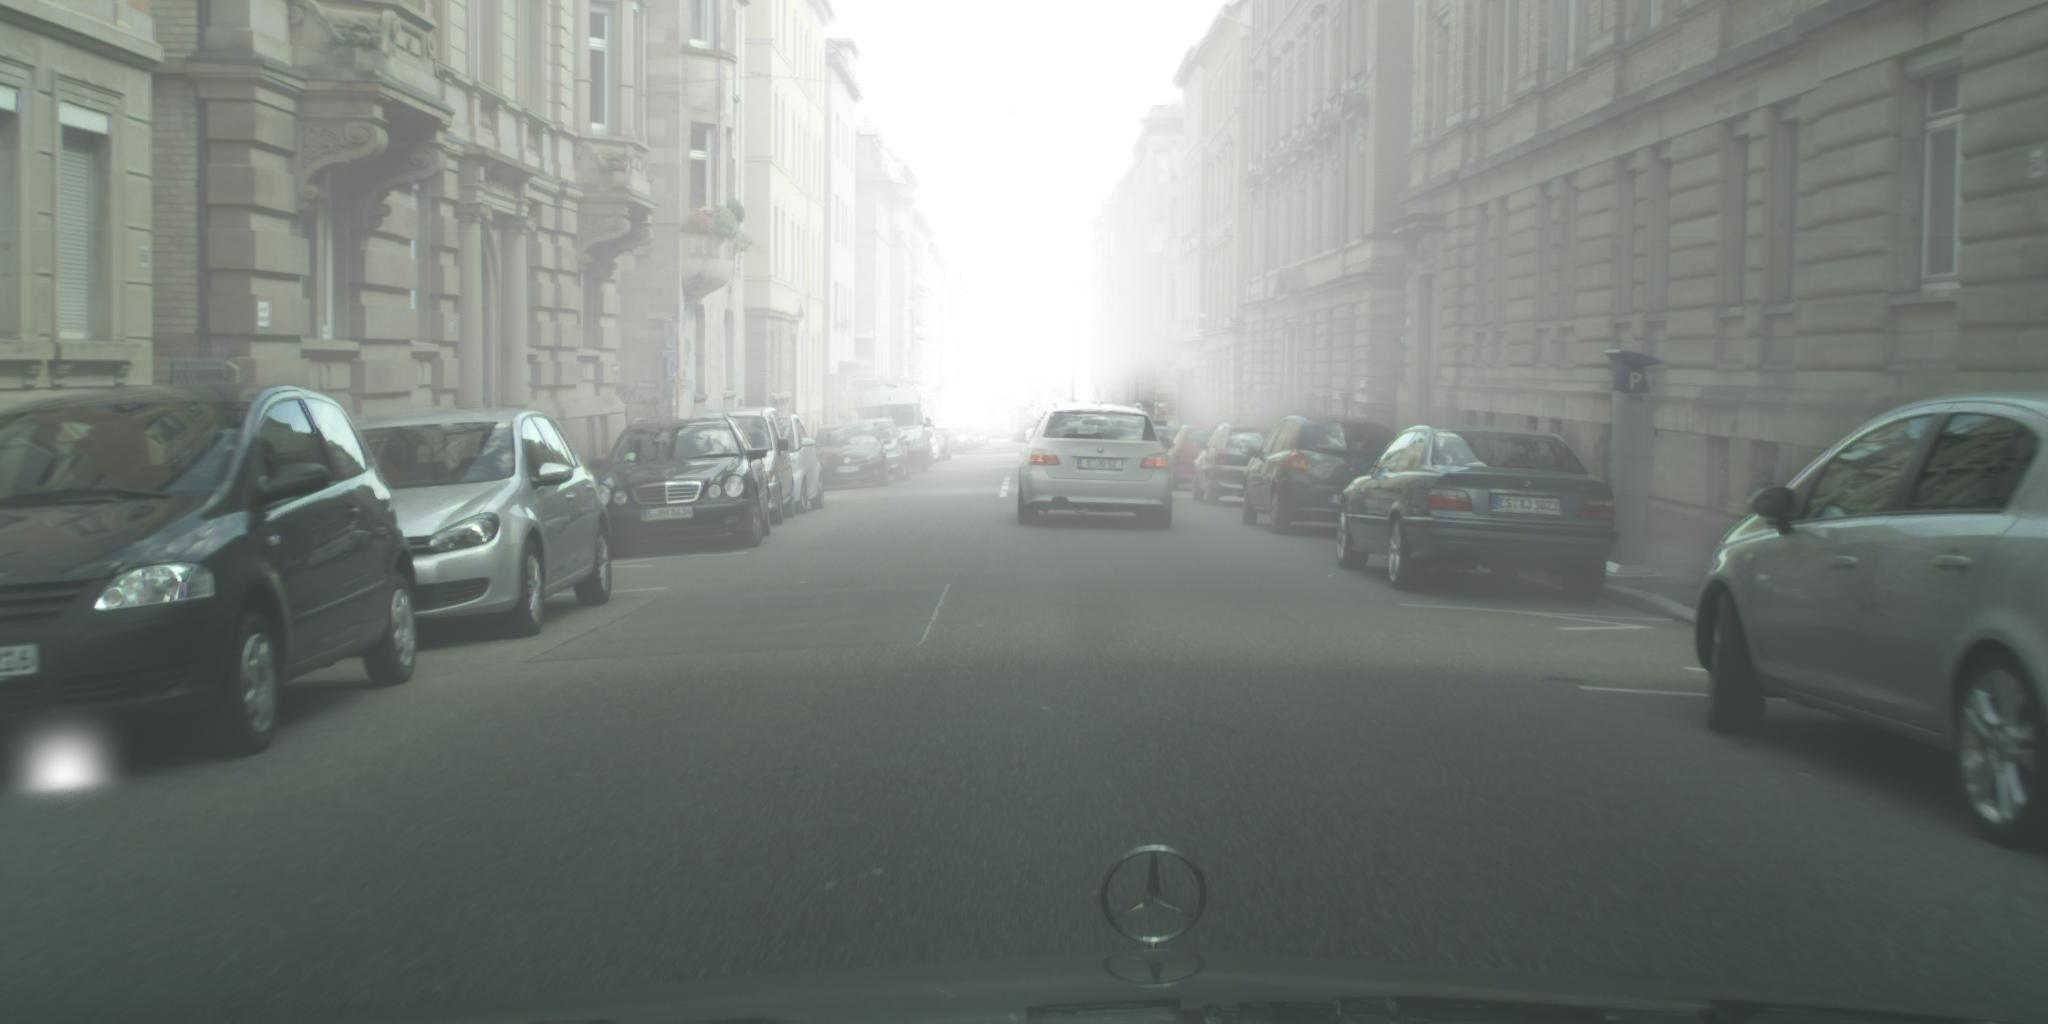car: (1695, 389, 2048, 849), (1, 384, 419, 758), (349, 408, 613, 639), (1337, 424, 1617, 605), (586, 415, 772, 560), (1012, 401, 1177, 529), (1240, 414, 1405, 536), (675, 408, 795, 526), (1192, 424, 1281, 505), (861, 388, 933, 474), (811, 424, 893, 488), (777, 415, 825, 515), (1161, 424, 1224, 491), (849, 418, 912, 482), (1149, 428, 1185, 468)
